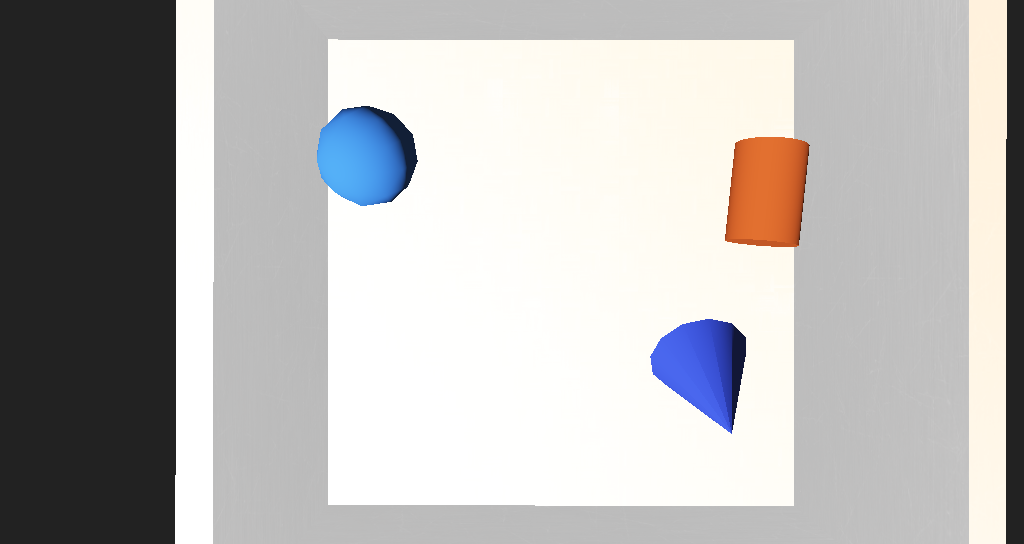cone: (610, 208, 670, 260)
cylinder: (559, 289, 640, 360)
sphere: (354, 198, 414, 241)
